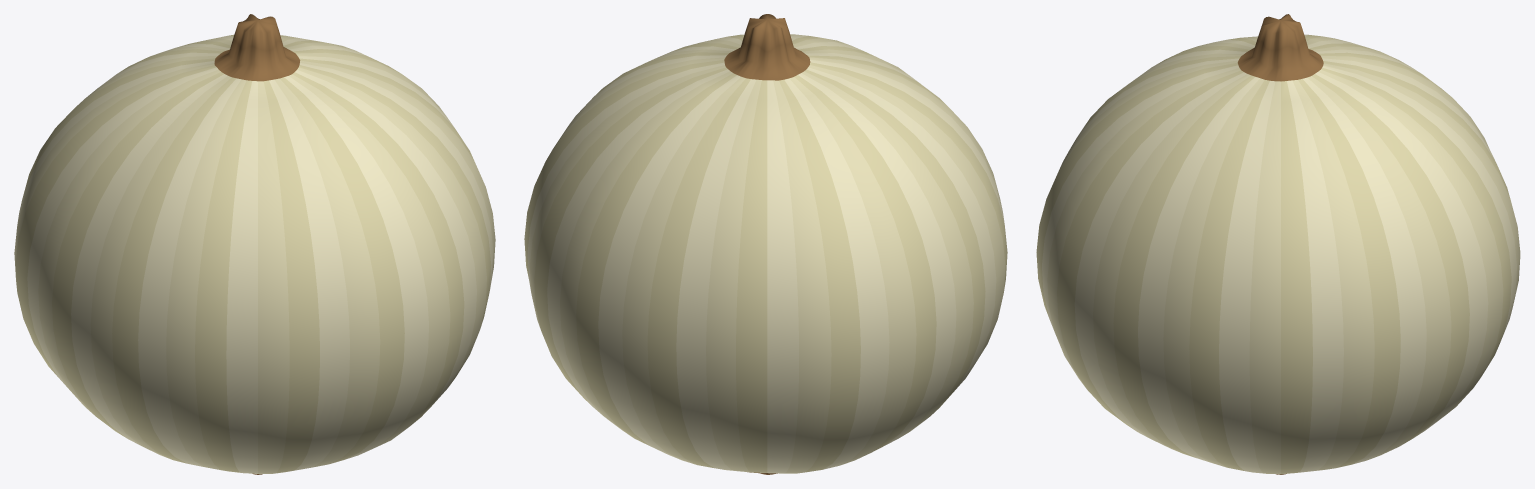
3 views of the same model, side by side, from view 1: azimuth 30°, elevation 25°; view 2: azimuth 150°, elevation 25°; view 3: azimuth 270°, elevation 25° (orthographic).
Parts seen in each view (by area): view 1: Whole onion with integral neck basal scar and layered skin; view 2: Whole onion with integral neck basal scar and layered skin; view 3: Whole onion with integral neck basal scar and layered skin.
Boxes of the visible parts, box(x1,y1,x2,y2) form: Whole onion with integral neck basal scar and layered skin: box(14, 14, 495, 474); Whole onion with integral neck basal scar and layered skin: box(524, 14, 1007, 474); Whole onion with integral neck basal scar and layered skin: box(1036, 14, 1520, 474).
Size of the model in its own units: 8.54 by 8.68 by 8.54.
